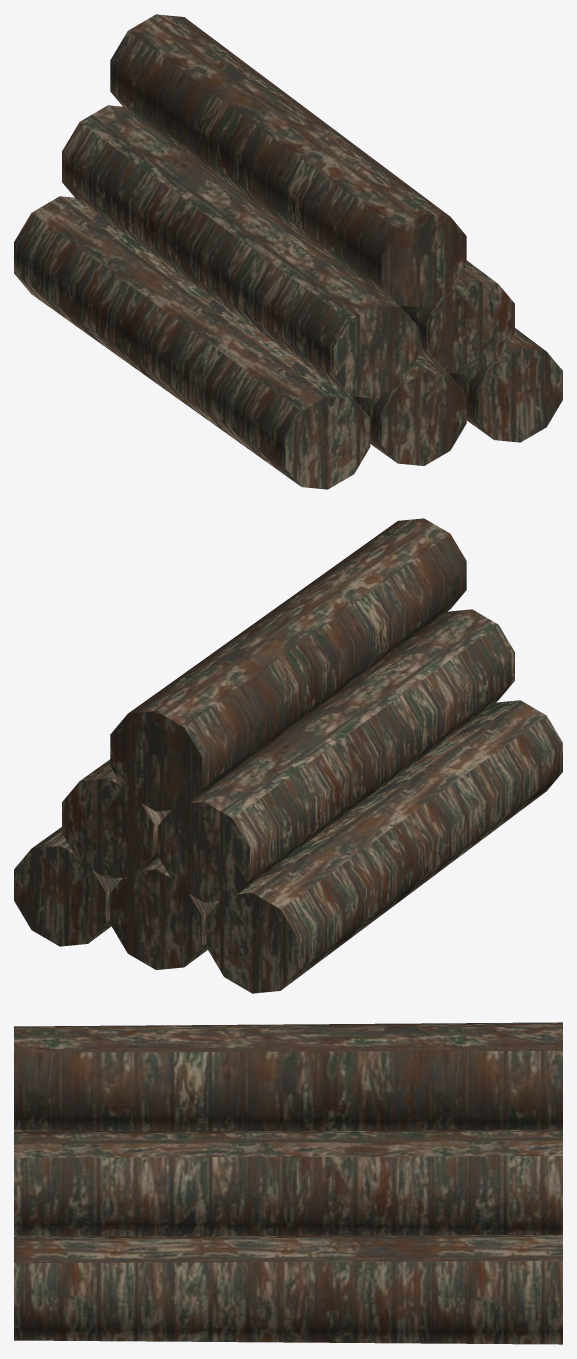
The model's file is prop_log_pile.glb.
3 renders of one model, top to bottom at view 1: azimuth 30°, elevation 25°; view 2: azimuth 150°, elevation 25°; view 3: azimuth 270°, elevation 25°, orthographic. The views are drawn at different scales.
Parts seen in each view (by area): view 1: PROP_LogPile; view 2: PROP_LogPile; view 3: PROP_LogPile.
Part boxes in pixels (bbox=[...]): PROP_LogPile: bbox=[14, 14, 562, 489]; PROP_LogPile: bbox=[14, 518, 562, 993]; PROP_LogPile: bbox=[14, 1022, 562, 1344].
Size of the model in its own units: 0.8263 by 0.72 by 1.35.
1 material, 1 textured.
